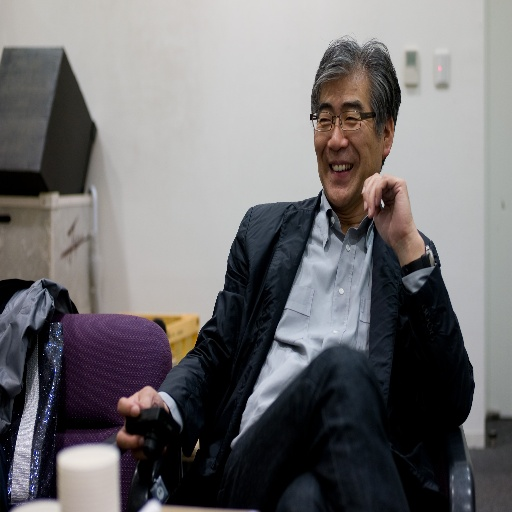hand: (366, 166, 428, 269), (112, 384, 171, 451)
